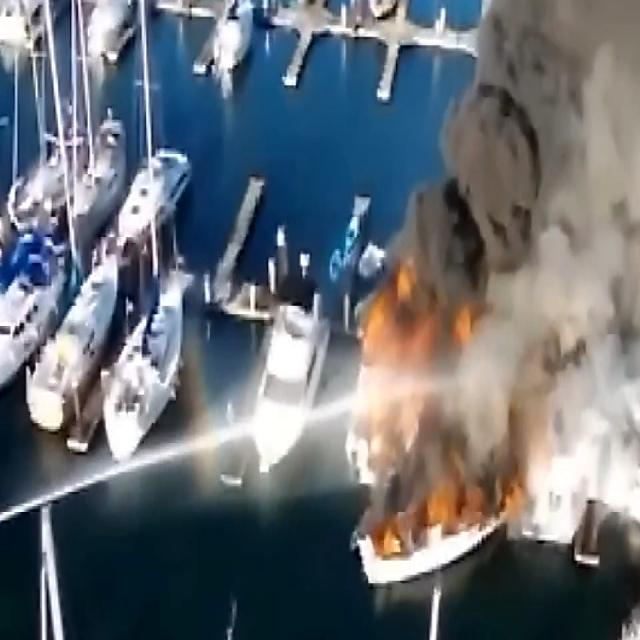smoke: (463, 0, 640, 288)
